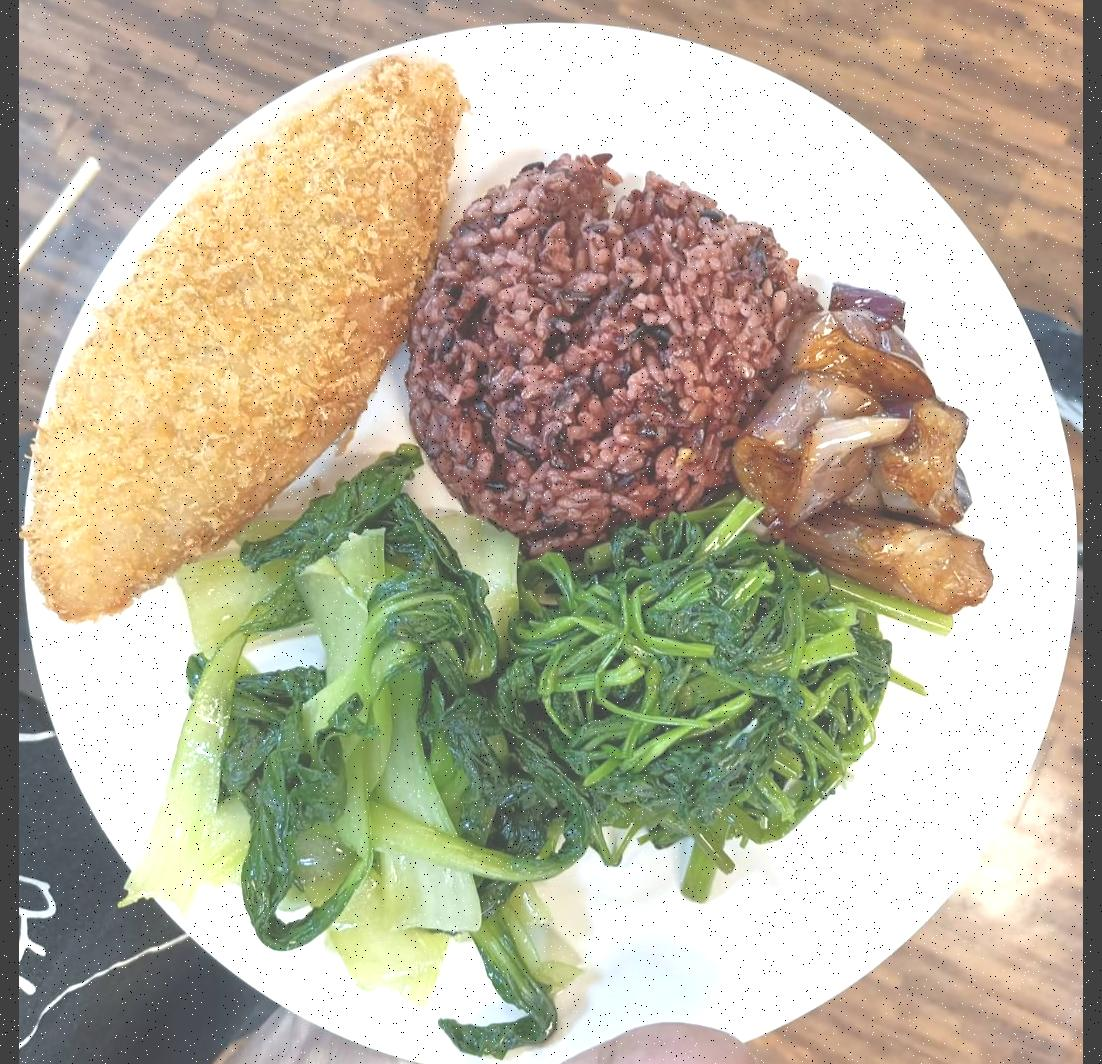big fried chicken leg: (24, 21, 1079, 1064)
braised fish: (414, 169, 784, 531)
braised fish fillet: (150, 485, 564, 1037), (514, 522, 882, 850), (734, 279, 984, 609)
braised pork: (24, 49, 474, 619)
